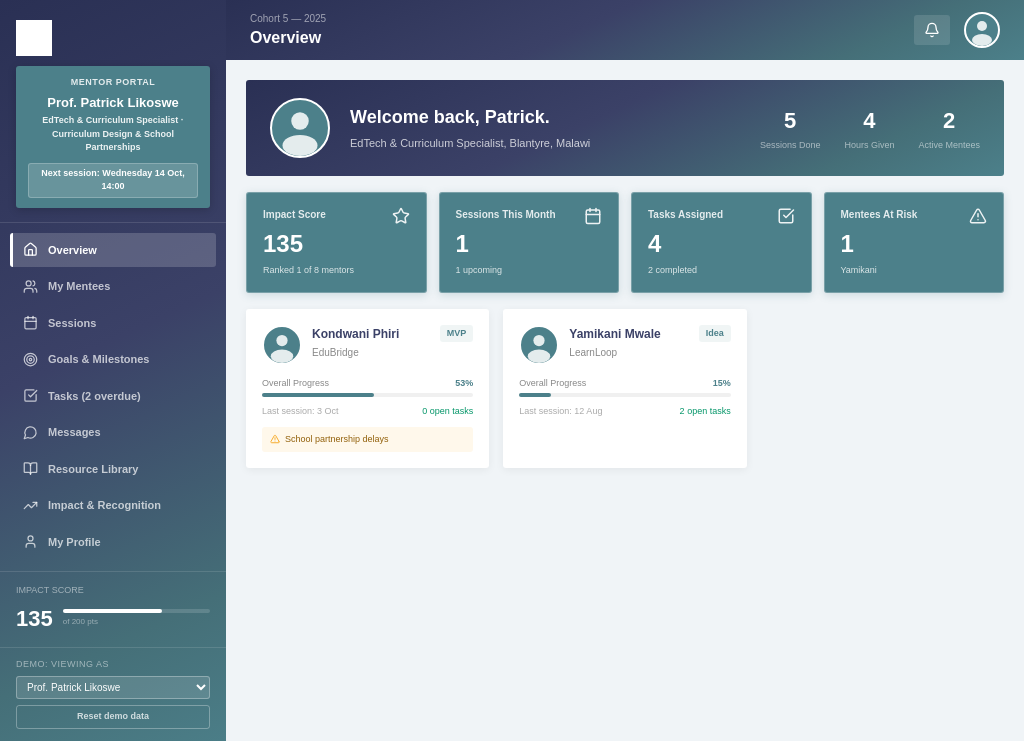
it: Mentor dashboard with two mentees › opens the session log for the mentee whose button was clicked
Click the button "My Mentees" at {"x": 113, "y": 286}, box [10,269,216,304]
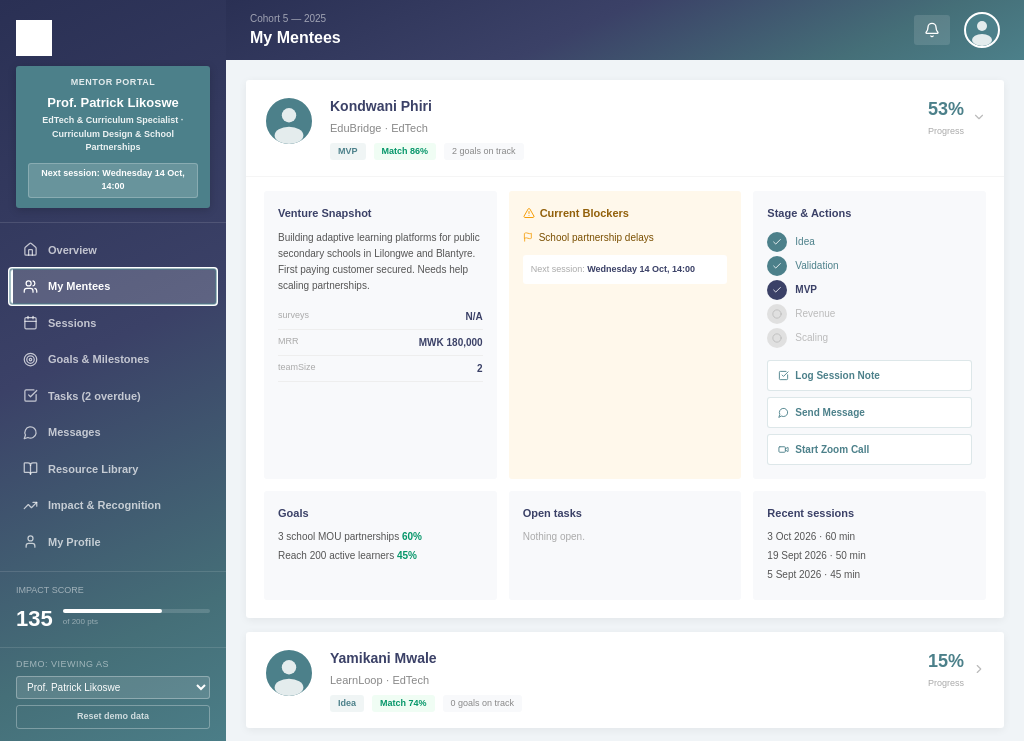
Click the heading "Yamikani Mwale" at {"x": 383, "y": 658}, box [330,650,437,666]
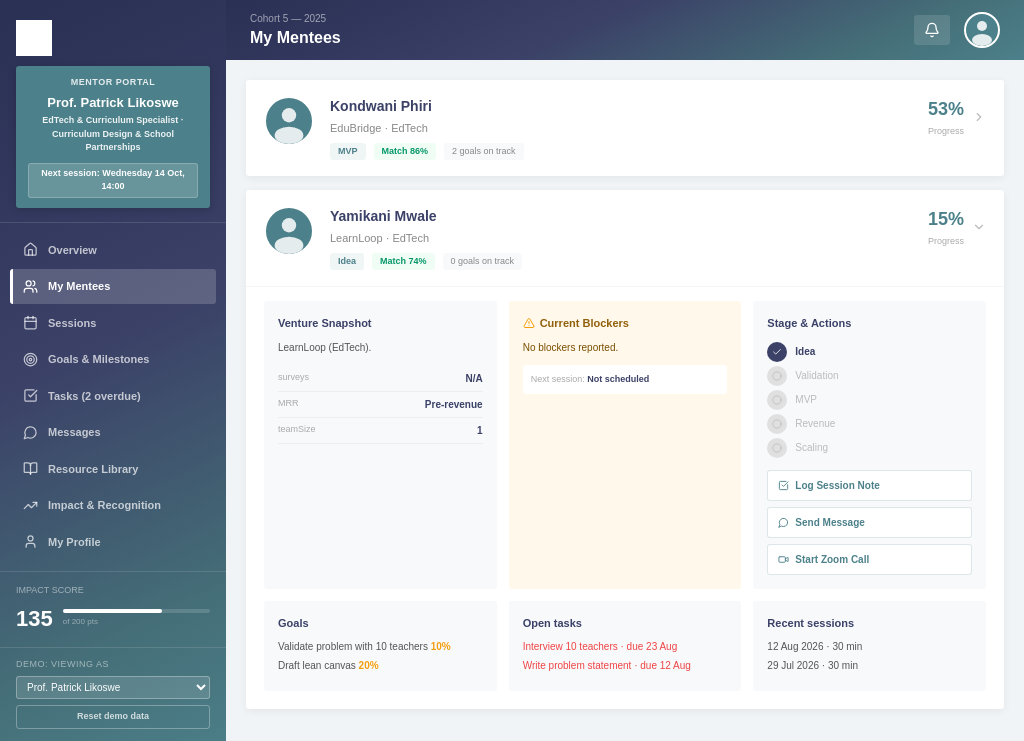
Click the button "Log Session Note" at {"x": 870, "y": 485}, box [767,470,972,500]
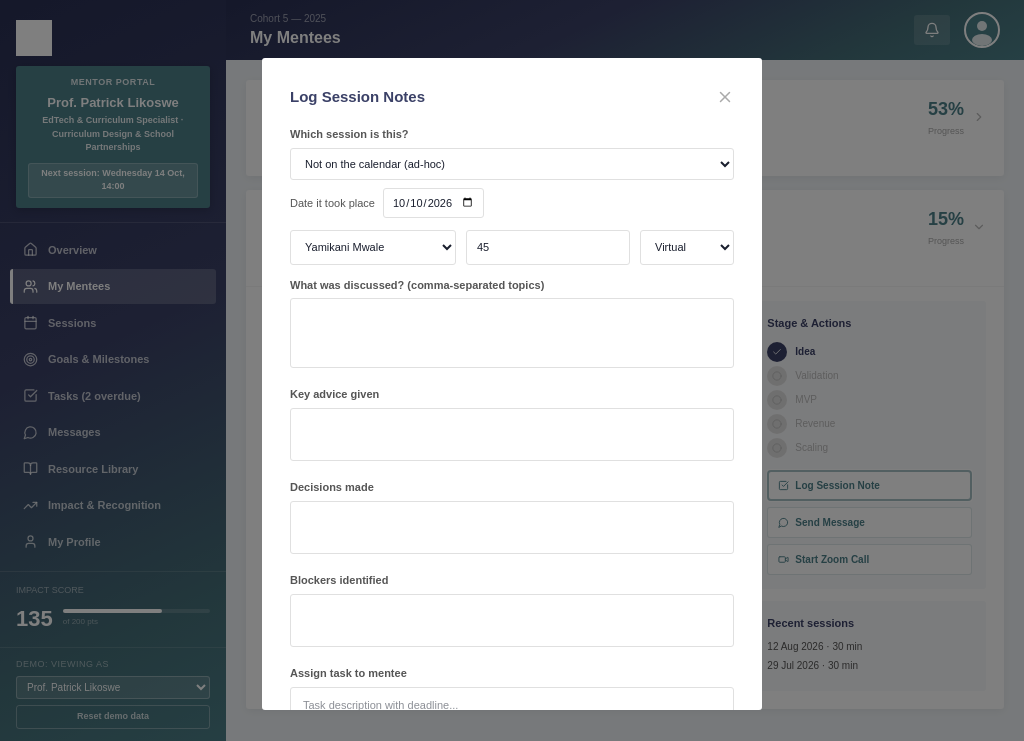
Check: the dropdown named "Mentee" shows "Yamikani Mwale", box [290,230,456,265]
